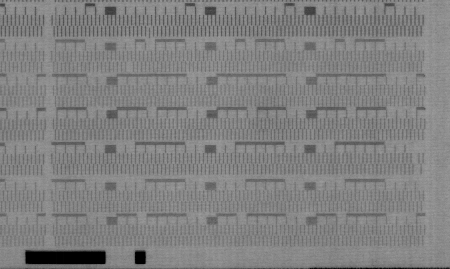Broken hole: (409, 152, 424, 176), (124, 61, 136, 75)
Oblique printing: (144, 26, 156, 41)
